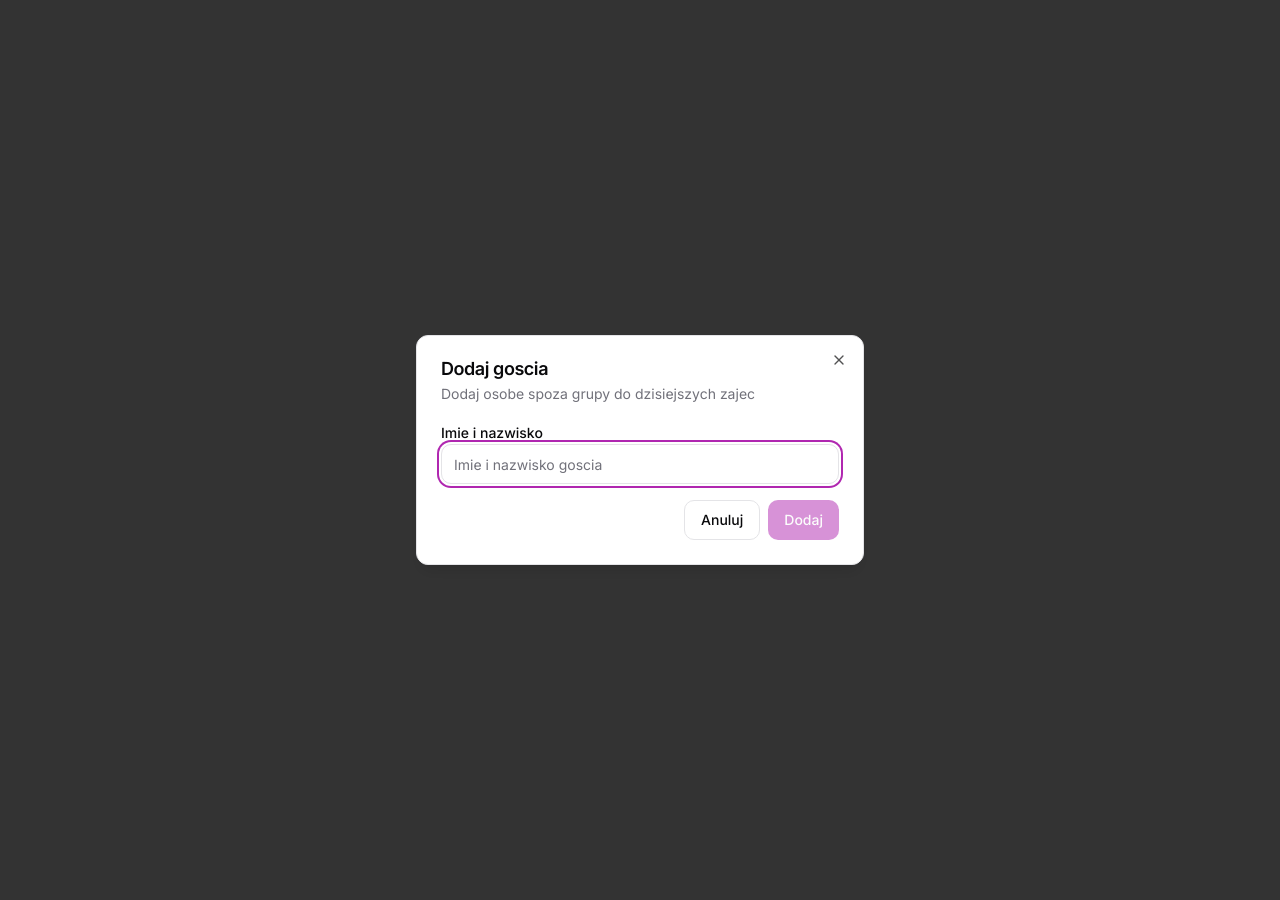
Test: SubstituteDialog › enables add button when name is entered
This screenshot has width=1280, height=900.
Step 1. Type "Kasia Nowak" into the field labelled "Imie i nazwisko" → x=640, y=464, box [441,444,839,484]
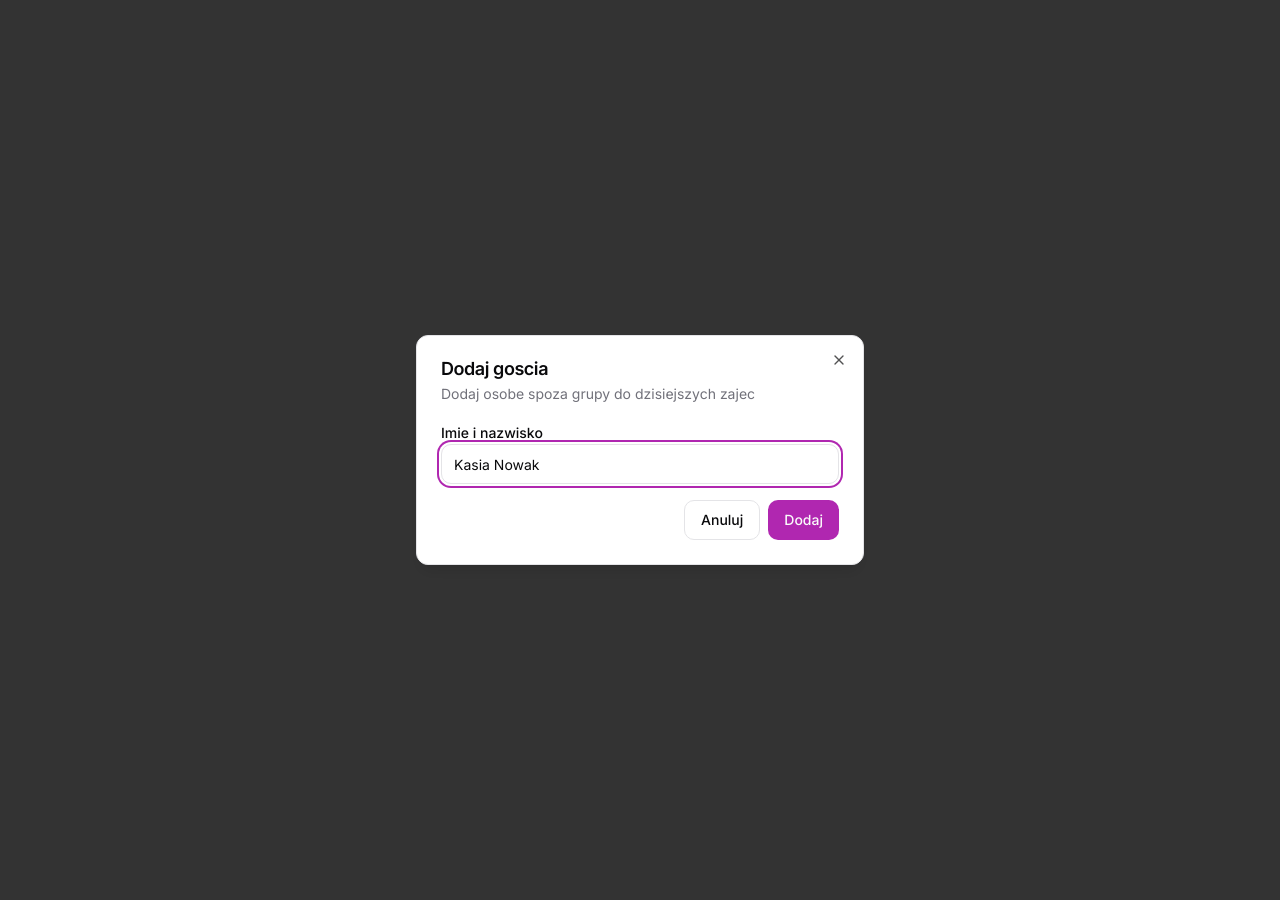
expect the button "Dodaj" is enabled: met, box [768,500,839,540]
